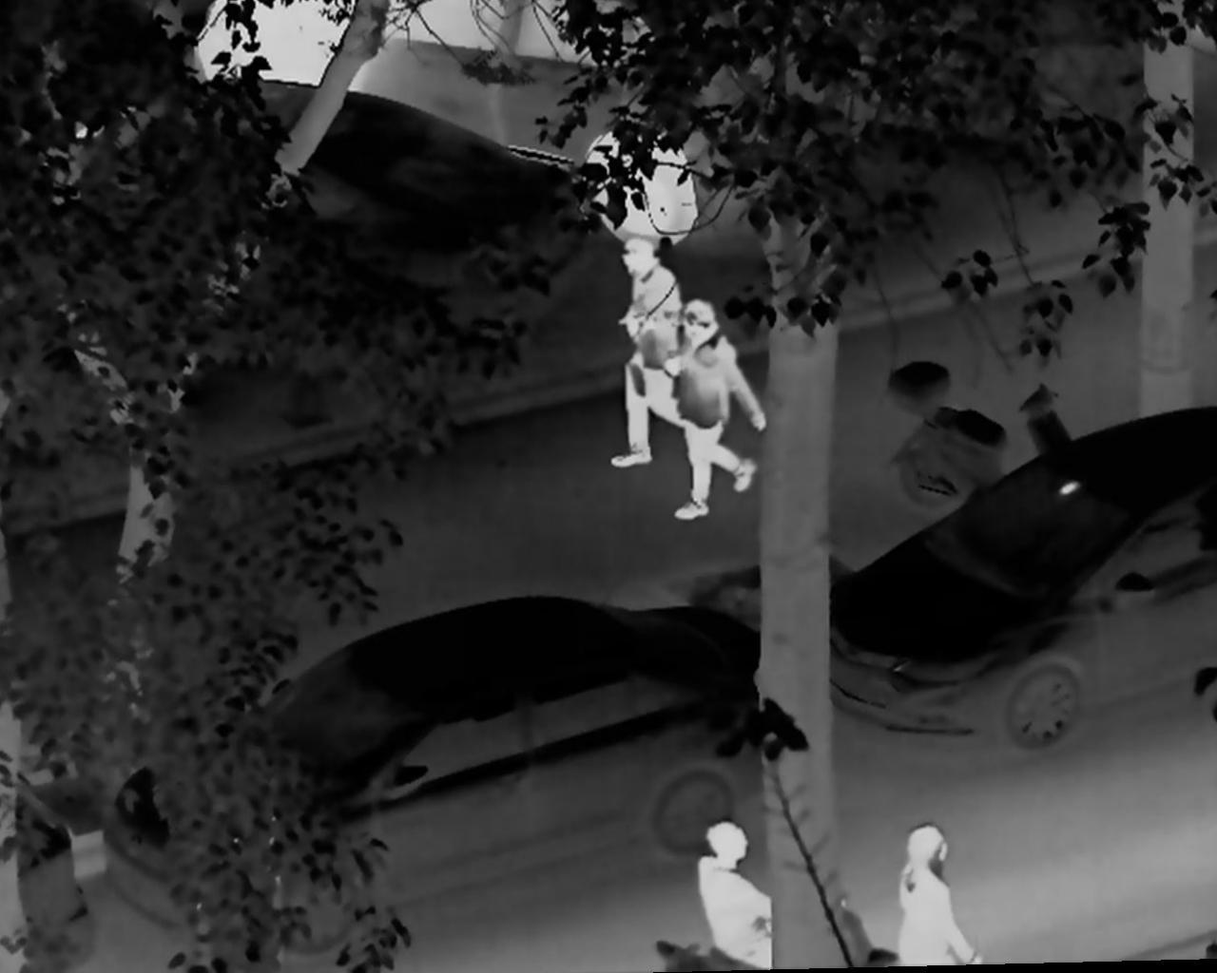person: (600, 235, 705, 477), (661, 299, 769, 524), (890, 814, 990, 973), (695, 812, 779, 973)
